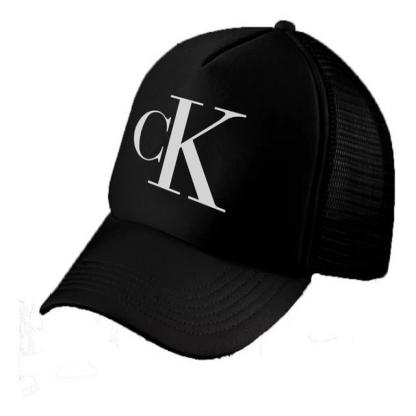cap: (37, 22, 402, 374)
